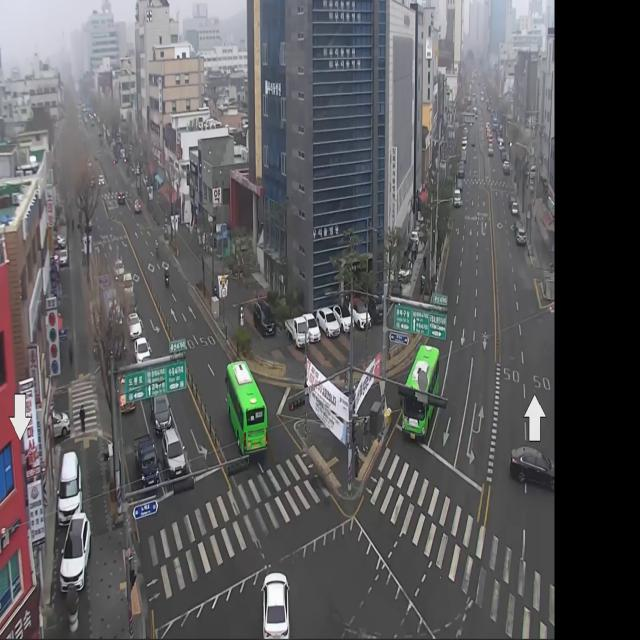bus: (160, 265, 172, 296)
car: (220, 354, 274, 466), (394, 338, 446, 449)
motorcycle: (252, 560, 298, 640), (507, 437, 557, 503)
truck: (131, 424, 161, 501)
